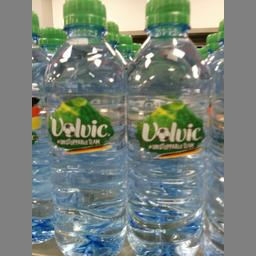water: (124, 0, 212, 255), (40, 0, 126, 255)
